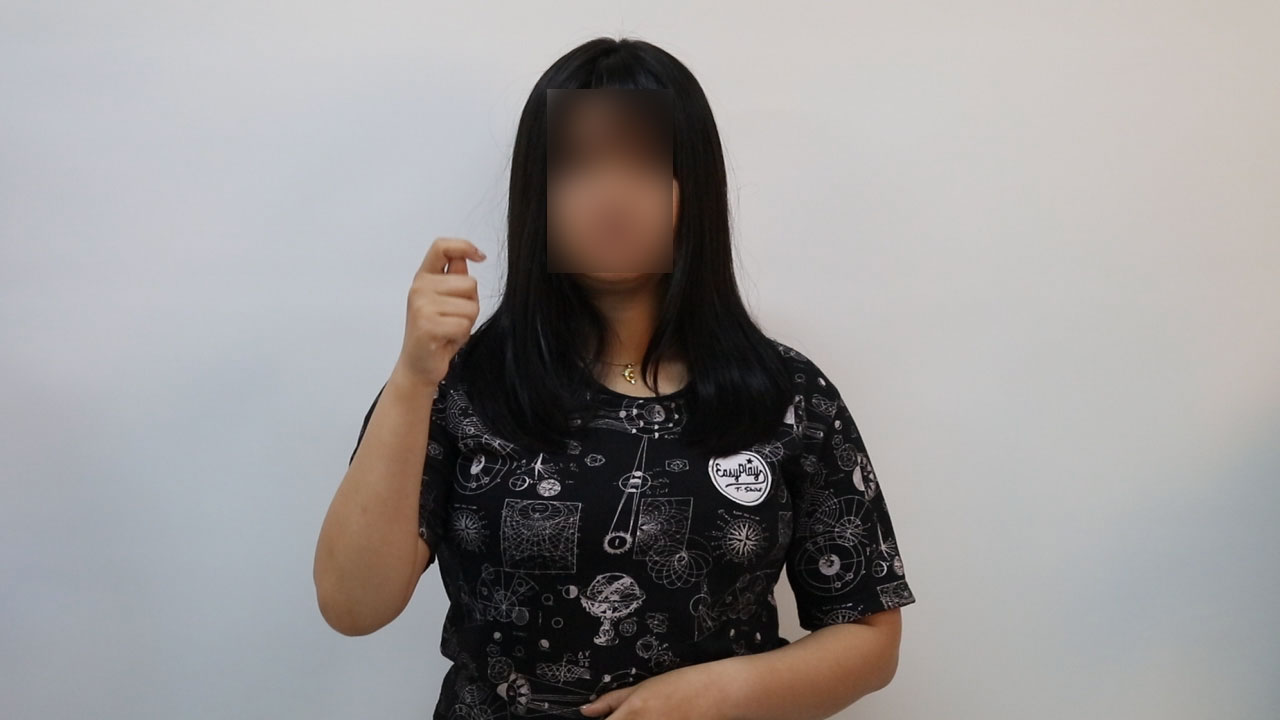or: (396, 231, 495, 392)
